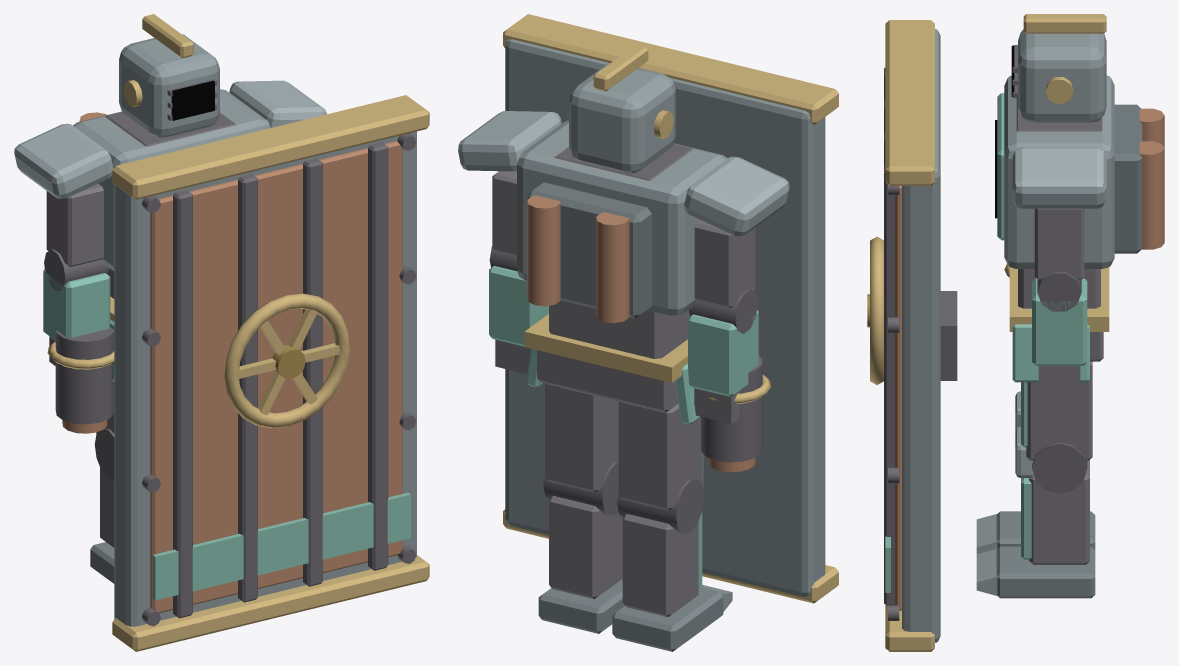
File: bulwark.glb
3 renders of one model, left to right at view 1: azimuth 30°, elevation 25°; view 2: azimuth 150°, elevation 25°; view 3: azimuth 270°, elevation 25°, orthographic. The views are drawn at different scales.
Parts seen in each view (by area): view 1: rust.003, bulwark*0.9, bronze.005, verdigris.009, gunmetal.012, gunmetal.009, bronze.006, gunmetal.010, gunmetal.011, bulwark.003, bronze.007, bulwark.002 (+17 smaller); view 2: bulwark*0.9, bulwark.002, bronze.005, bulwark.003, bulwark*0.6, gunmetal*1.002, gunmetal*1.3, gunmetal*1.004, gunmetal*1.001, bulwark*1.003, gunmetal*1.006, verdigris.008 (+20 smaller); view 3: bulwark*0.9, bronze.005, bulwark.002, bulwark.003, bulwark*1.002, gunmetal*1.001, bulwark*0.6, gunmetal*1.3, gunmetal.012, bulwark*0.7, verdigris.007, gunmetal*1.007 (+22 smaller).
Part boxes in pixels (x1,y1,x2,y2): rust.003: (150,141,402,612); bulwark*0.9: (114,131,416,626); bronze.005: (112,95,429,199); verdigris.009: (152,492,410,600); gunmetal.012: (368,142,388,570); gunmetal.009: (173,190,192,618); bronze.006: (112,555,429,651); gunmetal.010: (238,174,257,602); gunmetal.011: (303,158,322,586); bulwark.003: (119,34,219,137); bronze.007: (224,293,349,428); bulwark.002: (73,89,270,271); bulwark*0.9: (505,39,825,596); bulwark.002: (517,120,727,315); bronze.005: (503,14,838,124); bulwark.003: (569,64,675,173); bulwark*0.6: (527,182,651,318); gunmetal*1.002: (618,401,702,510); gunmetal*1.3: (545,383,618,492); gunmetal*1.004: (622,514,698,616); gunmetal*1.001: (549,496,622,599); bulwark*1.003: (684,156,789,236); gunmetal*1.006: (549,300,690,358); verdigris.008: (688,310,758,396); bulwark*0.9: (902,29,940,642); bronze.005: (885,20,934,185); bulwark.002: (1004,75,1114,268); bulwark.003: (1018,29,1106,122); bulwark*1.002: (1012,147,1106,208); gunmetal*1.001: (1029,460,1089,564); bulwark*0.6: (1114,104,1142,253); gunmetal*1.3: (1026,361,1092,460); gunmetal.012: (884,166,894,605); bulwark*0.7: (996,546,1095,598); verdigris.007: (1032,278,1087,365); gunmetal*1.007: (1034,208,1084,279).
Bounding box in the file's own units: 1.35 × 2.2 × 1.08.
